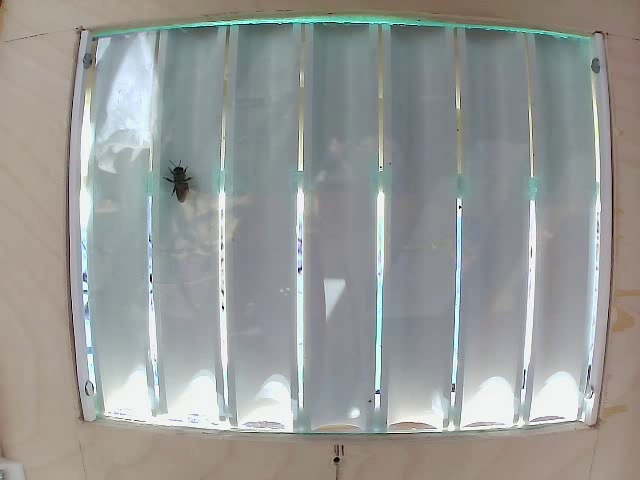bee: (165, 156, 197, 205)
